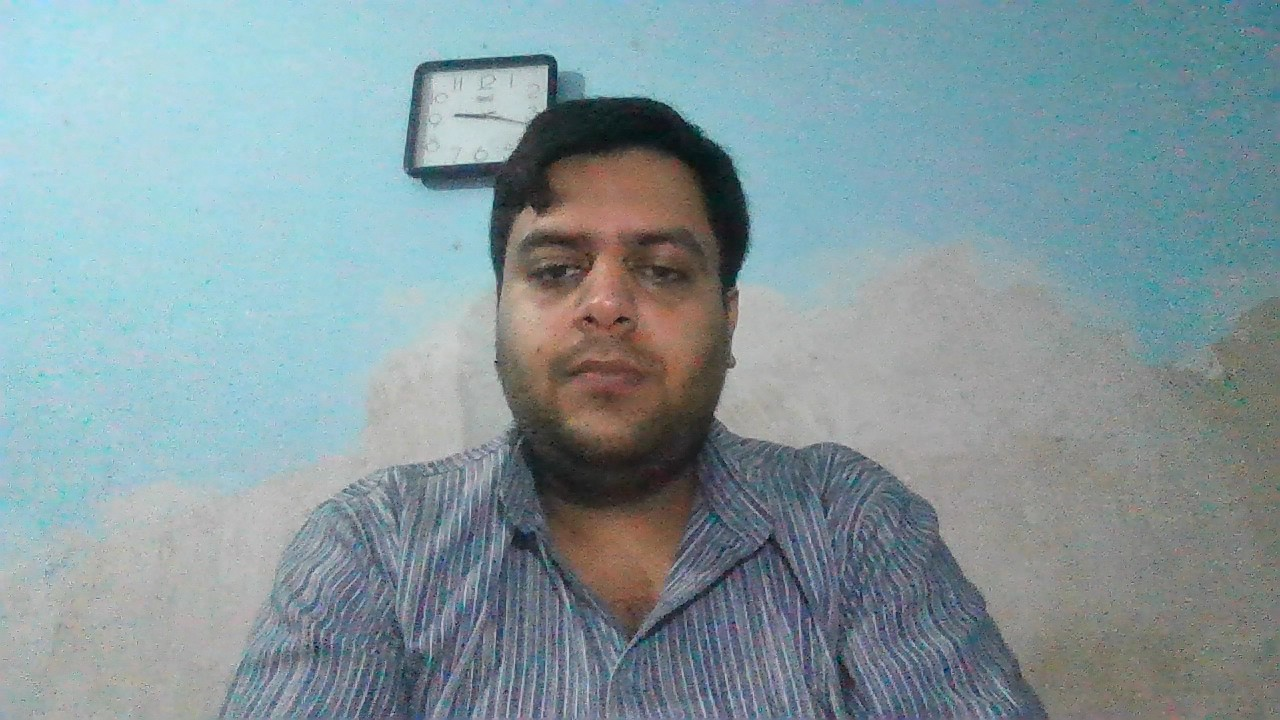No Mask: (494, 294, 745, 453)
